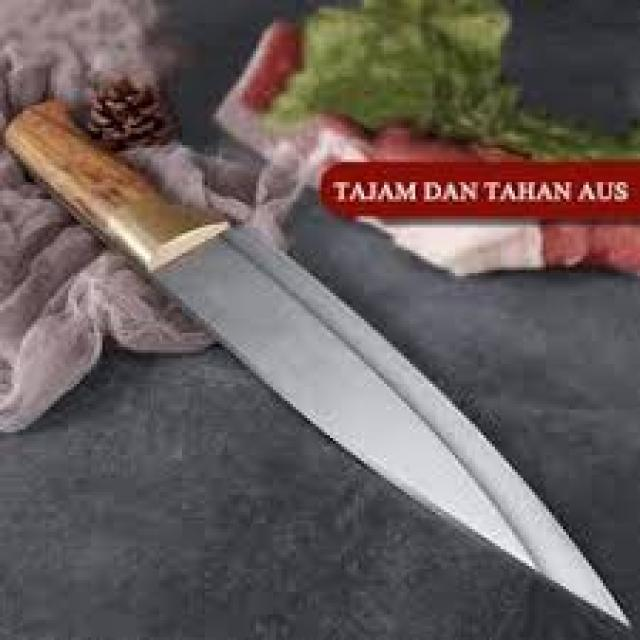Knife: (6, 100, 629, 626)
